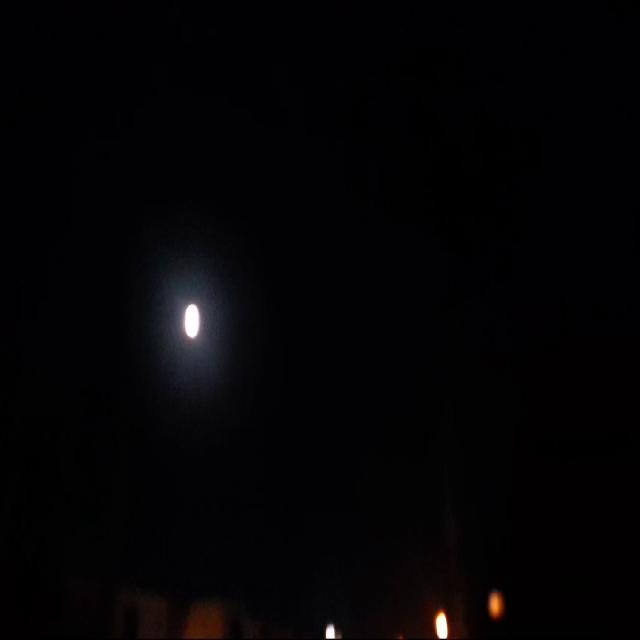moon: (180, 299, 200, 337)
